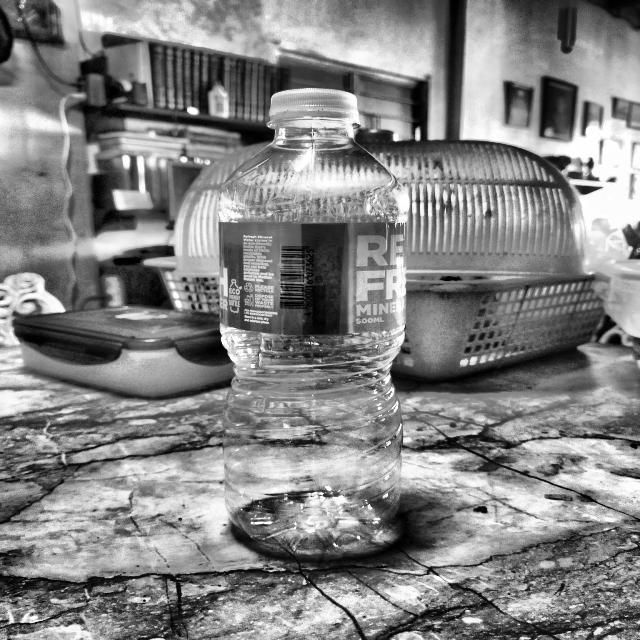Plastic-Bottle: (217, 88, 413, 556)
